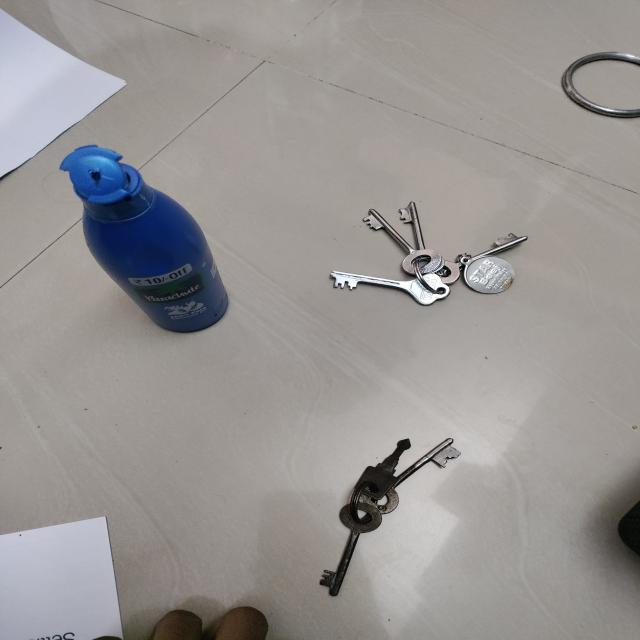metal: (321, 434, 465, 598), (330, 201, 524, 305), (562, 48, 640, 120)
paper: (0, 0, 124, 146), (0, 513, 122, 640)
plastic: (59, 140, 227, 334)
